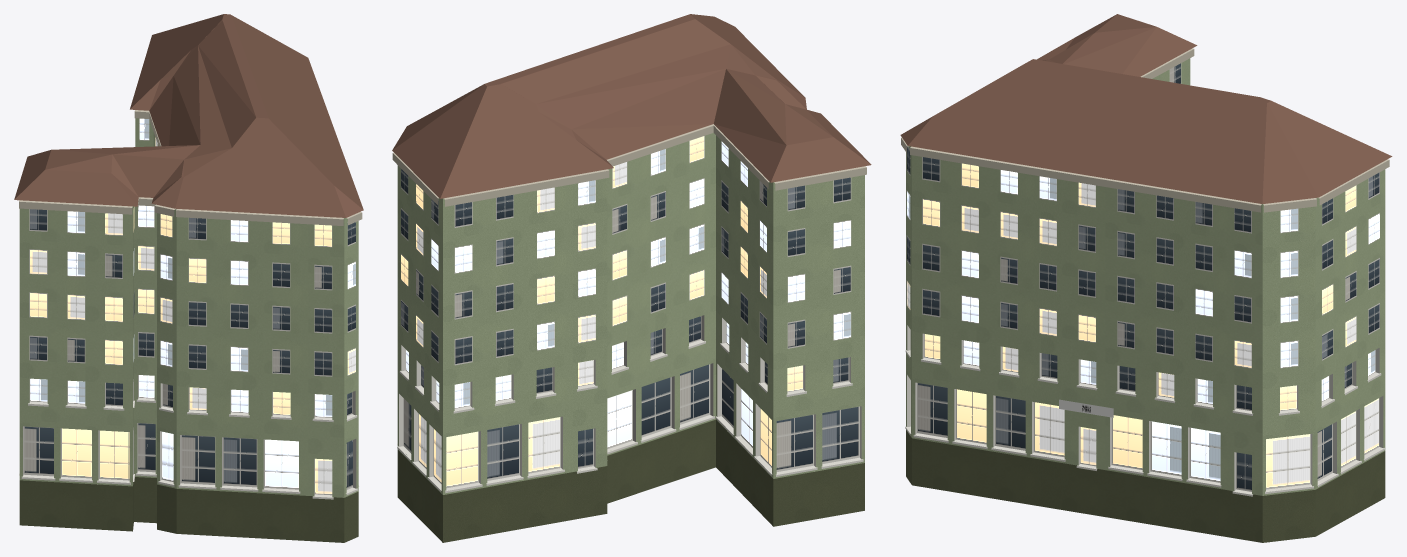
The model's file is langB_gambrinus.glb.
3 views of the same model, side by side, from view 1: azimuth 30°, elevation 25°; view 2: azimuth 150°, elevation 25°; view 3: azimuth 270°, elevation 25° (orthographic). The views are drawn at different scales.
Visible parts, largest first — view 1: langB_gambrinus; view 2: langB_gambrinus; view 3: langB_gambrinus.
Boxes of the visible parts, x1,y1,x2,y2 form: langB_gambrinus: (14,14,363,542); langB_gambrinus: (392,14,871,542); langB_gambrinus: (900,14,1392,542).
Bounding box in the file's own units: 25.51 × 25.77 × 28.47.
3 materials, 3 textured.
